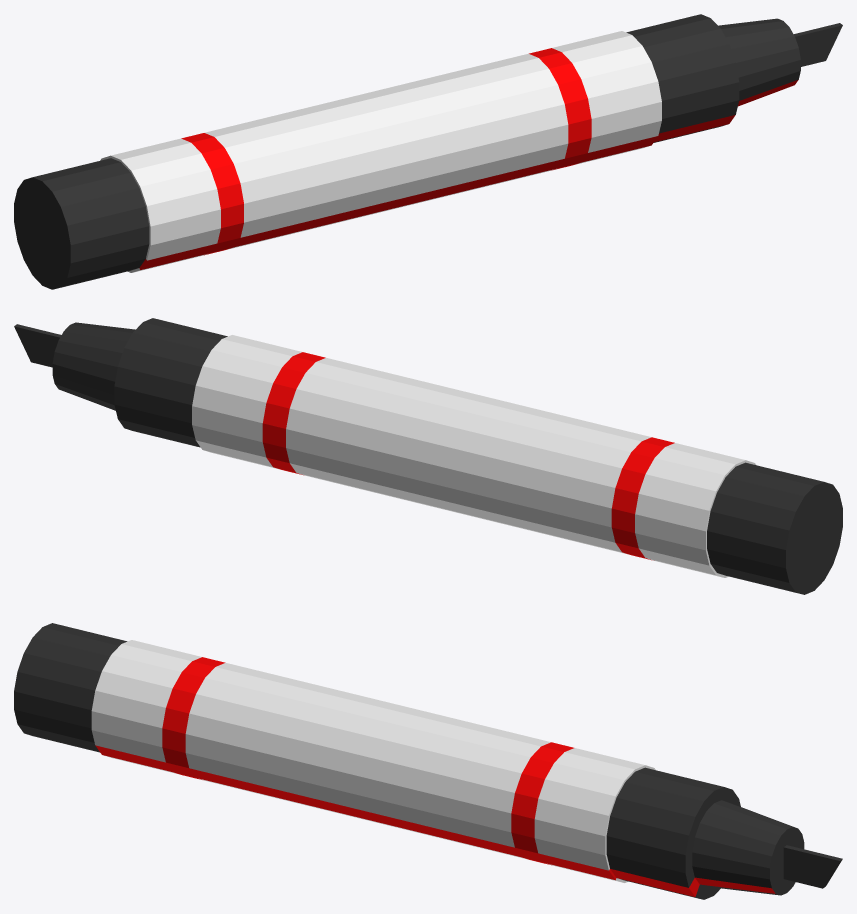
File: a3827883-f8cb-426e-b55a-cff82a38e48e.glb
3 renders of one model, top to bottom at view 1: azimuth 30°, elevation 25°; view 2: azimuth 150°, elevation 25°; view 3: azimuth 330°, elevation 25°, orthographic.
Parts seen in each view (by area): view 1: Cylinder002, Box002; view 2: Cylinder002, Box002; view 3: Cylinder002, Box002.
Part boxes in pixels (<box>): Cylinder002: <box>14,14,800,289</box>; Box002: <box>794,23,842,66</box>; Cylinder002: <box>52,318,842,594</box>; Box002: <box>14,324,61,367</box>; Cylinder002: <box>14,623,804,899</box>; Box002: <box>783,845,842,888</box>.
Bounding box in the file's own units: 952812 × 124481 × 122590.
